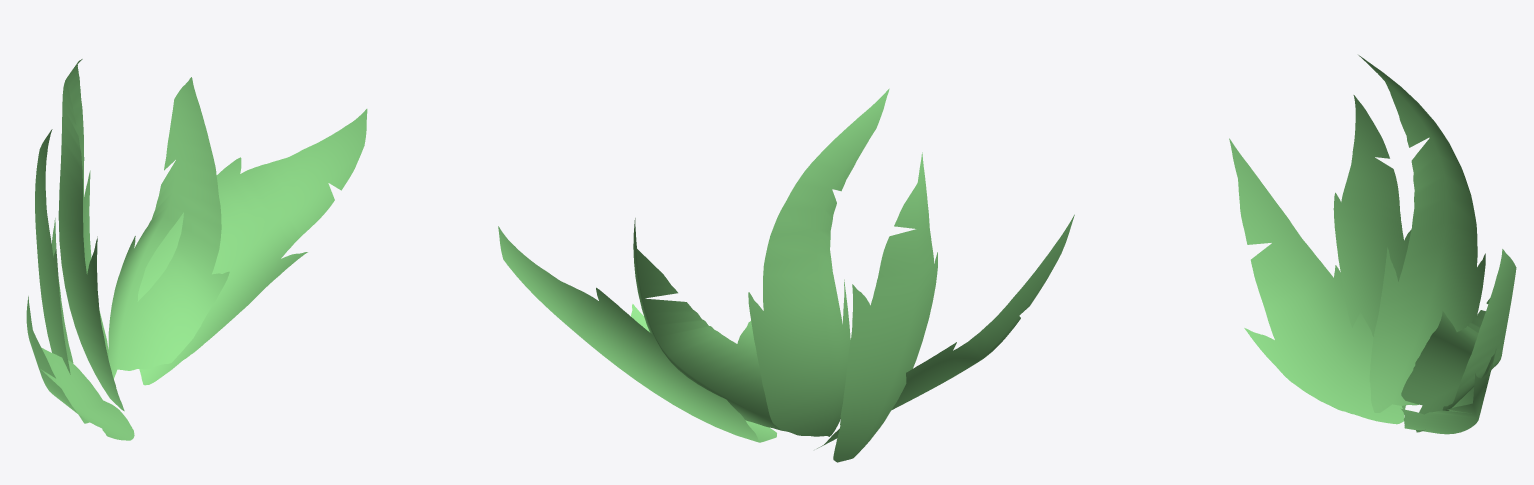
The model's file is Leaves.fbx.
The picture shows the model from 3 angles, left to right: view 1: azimuth 30°, elevation 25°; view 2: azimuth 150°, elevation 25°; view 3: azimuth 270°, elevation 25°; orthographic projection. The views are drawn at different scales.
Visible parts, largest first — view 1: BézierCurve.008; view 2: BézierCurve.008; view 3: BézierCurve.008.
Part boxes in pixels (<box>): BézierCurve.008: <box>26,59,367,440</box>; BézierCurve.008: <box>498,88,1074,462</box>; BézierCurve.008: <box>1229,55,1516,434</box>.
Bounding box in the file's own units: 312 × 271 × 220.
